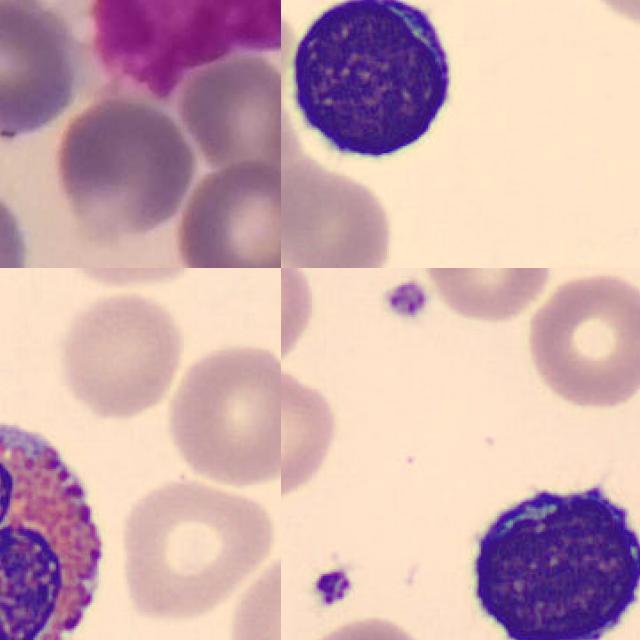Eosinophil: (0, 396, 122, 640)
Lymphocyte: (449, 468, 640, 640), (281, 0, 468, 174)
Monocyte: (42, 0, 281, 93)
Platelets: (380, 276, 433, 326), (309, 566, 355, 612)
RBC: (115, 476, 278, 622), (162, 335, 281, 490), (54, 289, 186, 423), (521, 268, 640, 411), (281, 162, 397, 268), (463, 576, 633, 640), (281, 364, 342, 507), (420, 268, 553, 325), (223, 544, 281, 640), (281, 268, 321, 373), (52, 268, 214, 292)
